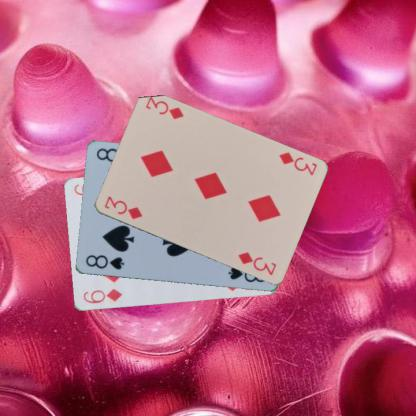3d: (101, 193, 143, 221), (276, 149, 318, 177)
6d: (80, 287, 123, 305)
8s: (82, 252, 124, 271)
